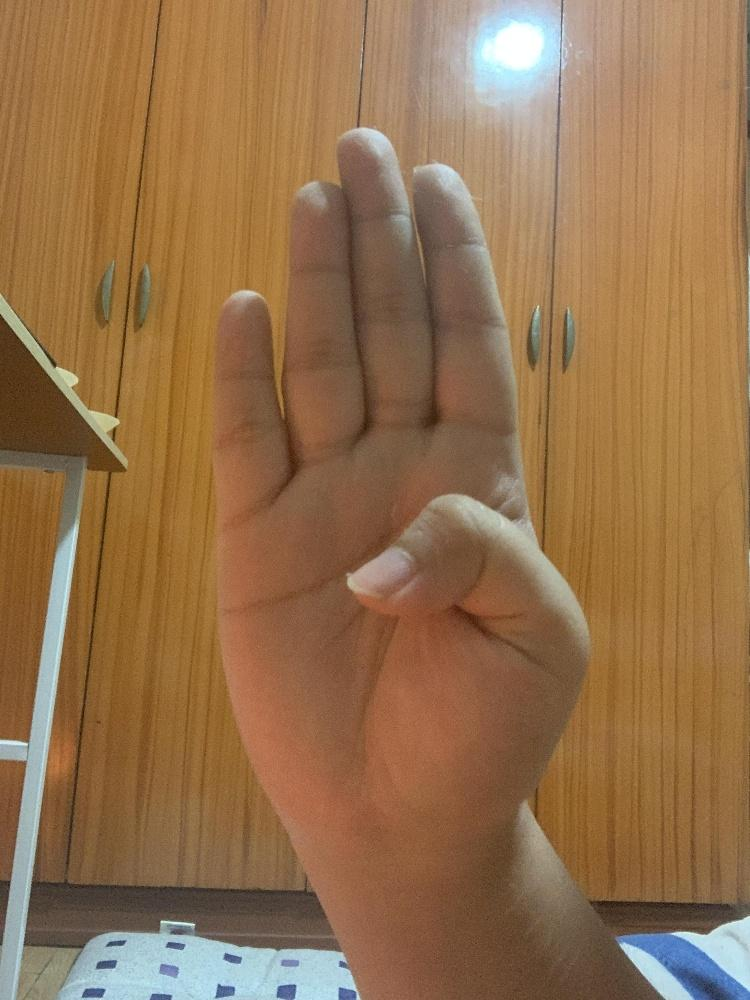b: (201, 125, 595, 847)
